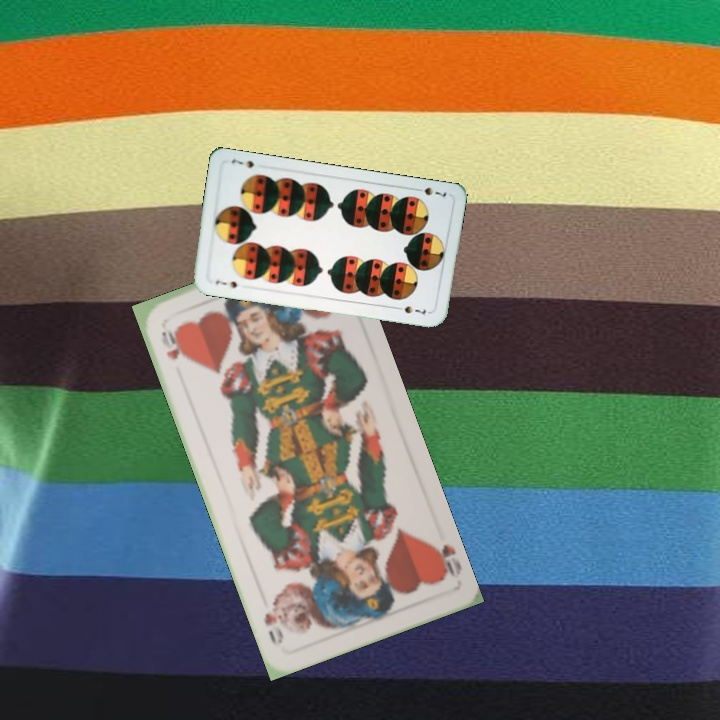HO: (425, 539, 464, 583), (157, 323, 183, 362)
S7: (410, 183, 449, 200), (211, 276, 240, 291)
